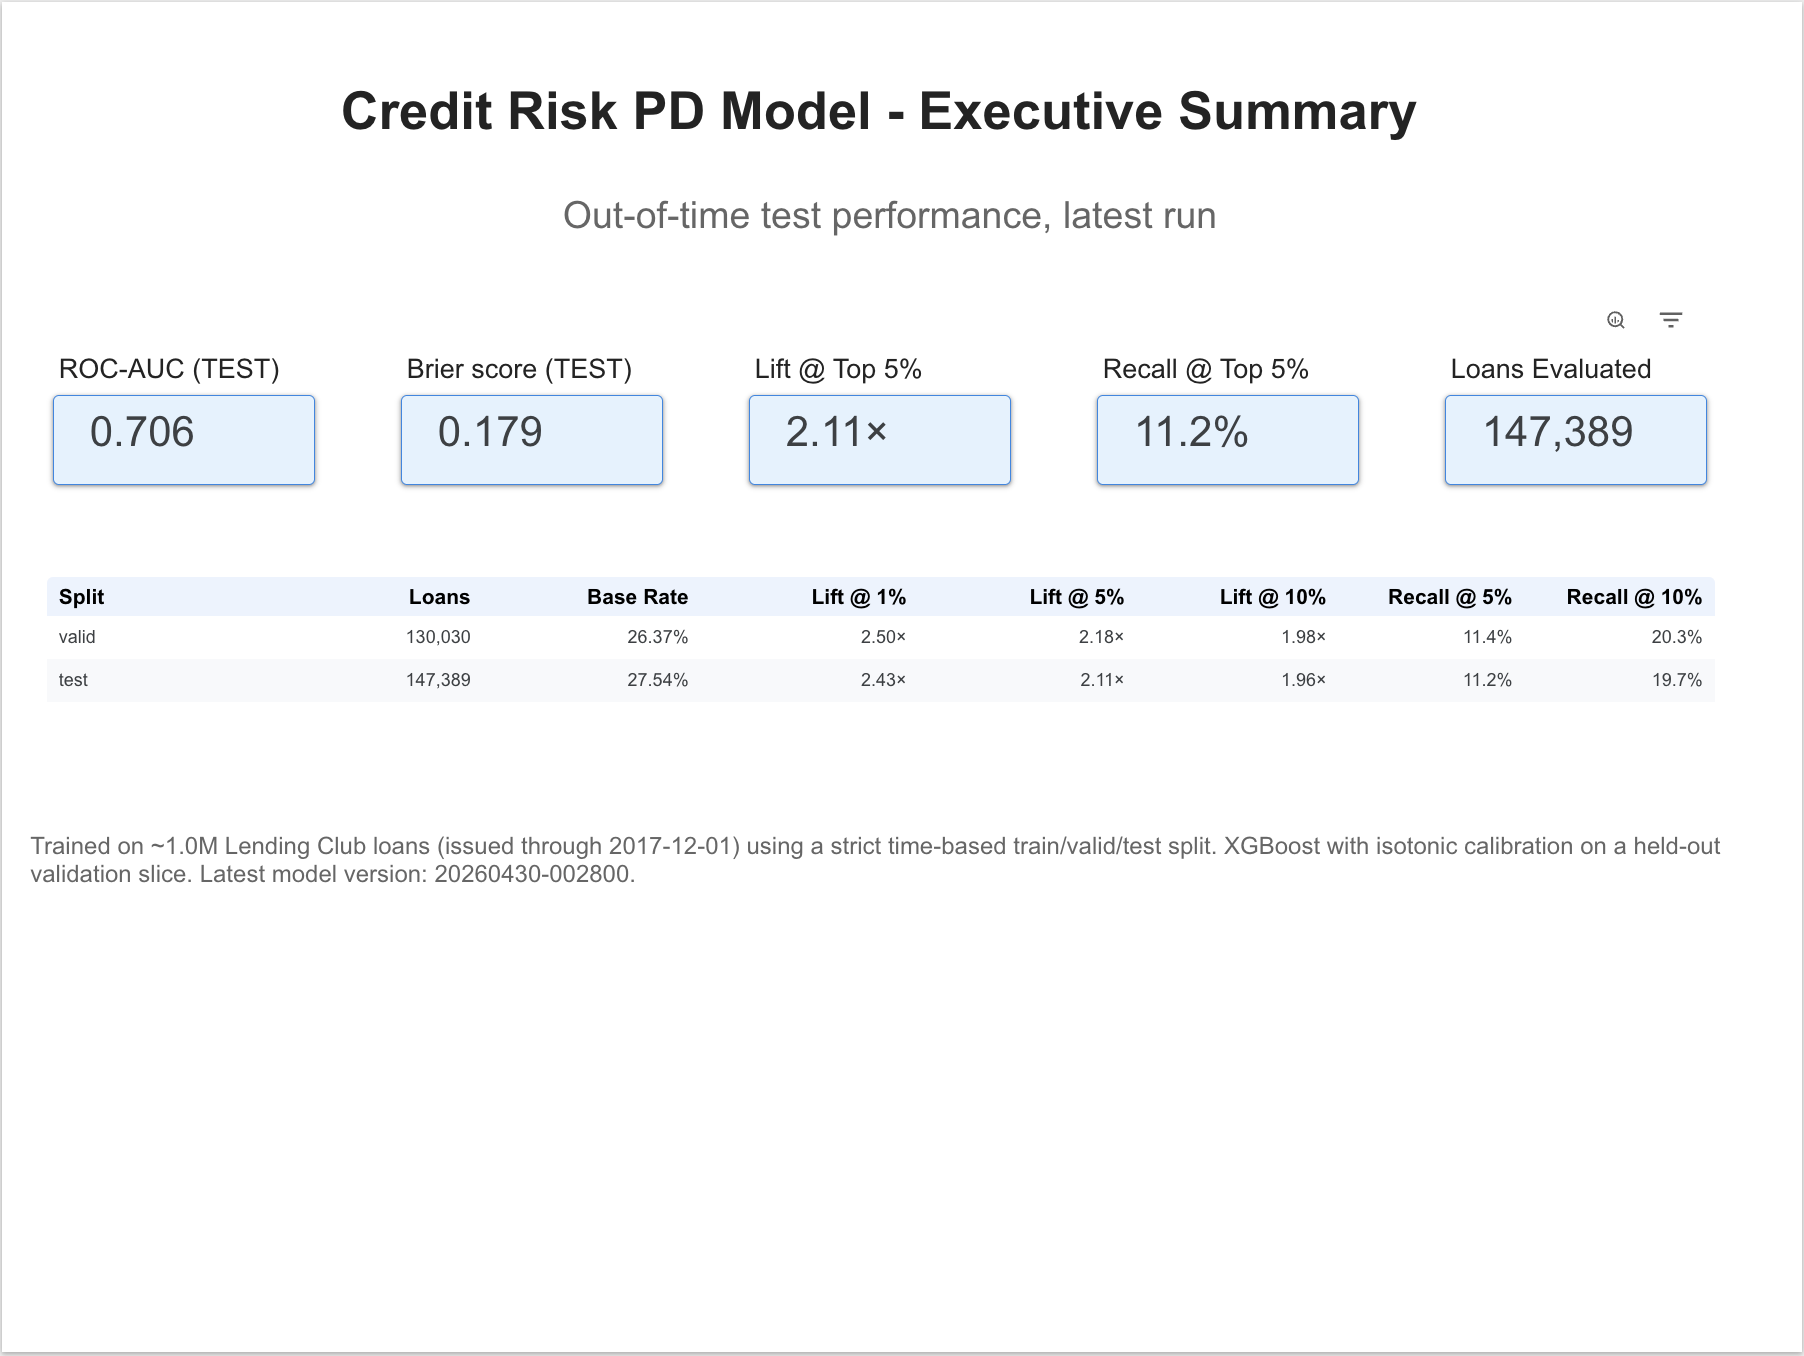

What the dashboard file says about the page in this screenshot:
{"tool":"tableau","page":{"name":"1 - Is the model working","canvas":[1200,800],"ordinal":0},"visuals":[{"type":"text","box":[0,0,1200,52]},{"type":"worksheet","title":"Status","mark":"Text","box":[0,52,1200,122]},{"type":"worksheet","title":"KPI - Calibration","mark":"Text","box":[600,174,300,150]},{"type":"worksheet","title":"KPI - Lift","mark":"Text","box":[18,192,264,52]},{"type":"worksheet","title":"KPI - Capture","mark":"Text","box":[318,192,264,52]},{"type":"worksheet","title":"KPI - Alerts","mark":"Text","box":[918,192,264,52]},{"type":"text","box":[18,244,264,42]},{"type":"text","box":[318,244,264,42]},{"type":"text","box":[918,244,264,21]},{"type":"worksheet","title":"Trend","mark":"Line","cols":["month_start"],"box":[0,324,1200,476]}]}

Visuals, with their boxes on the page's 1200x800 design canvas (x1, y1, x2, y2). These are canvas units, not pixel positions in the 1804x1356 screenshot, which may show the page scaled, cropped or inside an application window:
text: {"left": 0, "top": 0, "right": 1200, "bottom": 52}
"Status" worksheet (Text marks): {"left": 0, "top": 52, "right": 1200, "bottom": 174}
"KPI - Calibration" worksheet (Text marks): {"left": 600, "top": 174, "right": 900, "bottom": 324}
"KPI - Lift" worksheet (Text marks): {"left": 18, "top": 192, "right": 282, "bottom": 244}
"KPI - Capture" worksheet (Text marks): {"left": 318, "top": 192, "right": 582, "bottom": 244}
"KPI - Alerts" worksheet (Text marks): {"left": 918, "top": 192, "right": 1182, "bottom": 244}
text: {"left": 18, "top": 244, "right": 282, "bottom": 286}
text: {"left": 318, "top": 244, "right": 582, "bottom": 286}
text: {"left": 918, "top": 244, "right": 1182, "bottom": 265}
"Trend" worksheet (Line marks): {"left": 0, "top": 324, "right": 1200, "bottom": 800}
